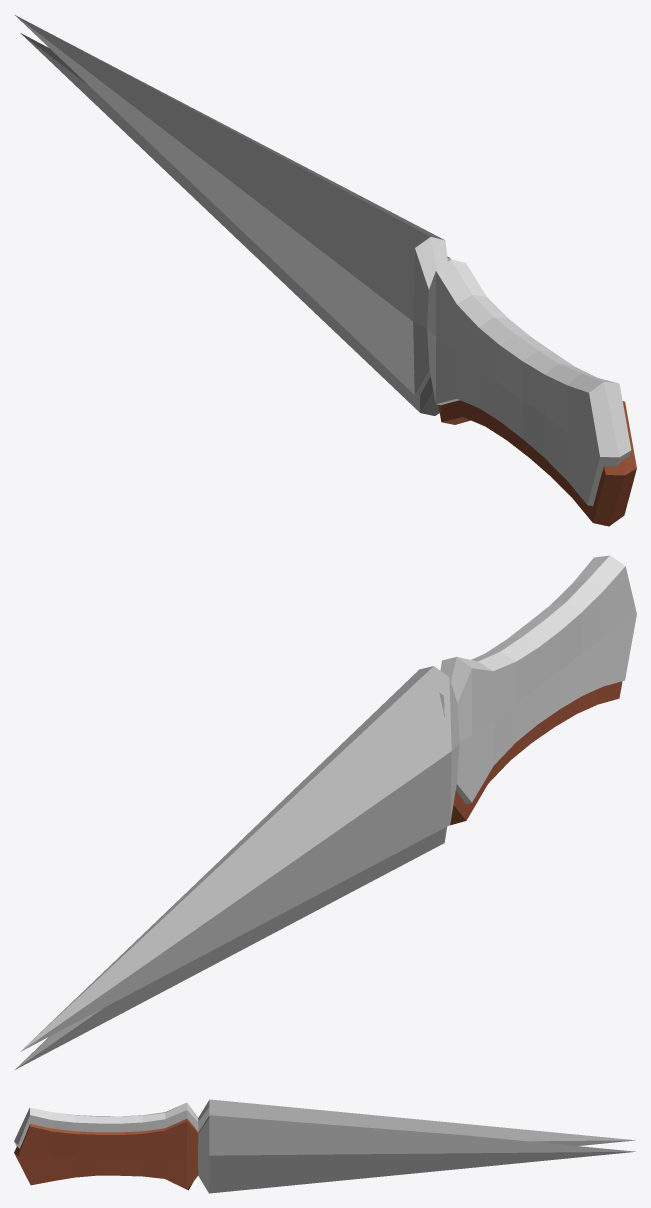
File: KastKniv.fbx
3 renders of one model, top to bottom at view 1: azimuth 30°, elevation 25°; view 2: azimuth 150°, elevation 25°; view 3: azimuth 270°, elevation 25°, orthographic. The views are drawn at different scales.
Visible parts, largest first — view 1: Cube, Cube.002, Cube.001; view 2: Cube, Cube.002, Cube.001; view 3: Cube.002, Cube.001, Cube.
Boxes of the visible parts, x1,y1,x2,y2 form: Cube: [15, 15, 631, 506]; Cube.002: [20, 33, 450, 415]; Cube.001: [438, 400, 636, 526]; Cube: [20, 555, 636, 1051]; Cube.002: [15, 692, 446, 1069]; Cube.001: [450, 681, 622, 825]; Cube.002: [198, 1115, 635, 1193]; Cube.001: [14, 1118, 198, 1190]; Cube: [14, 1099, 635, 1148].
Bounding box in the file's own units: 1.35 × 6.07 × 36.86.
